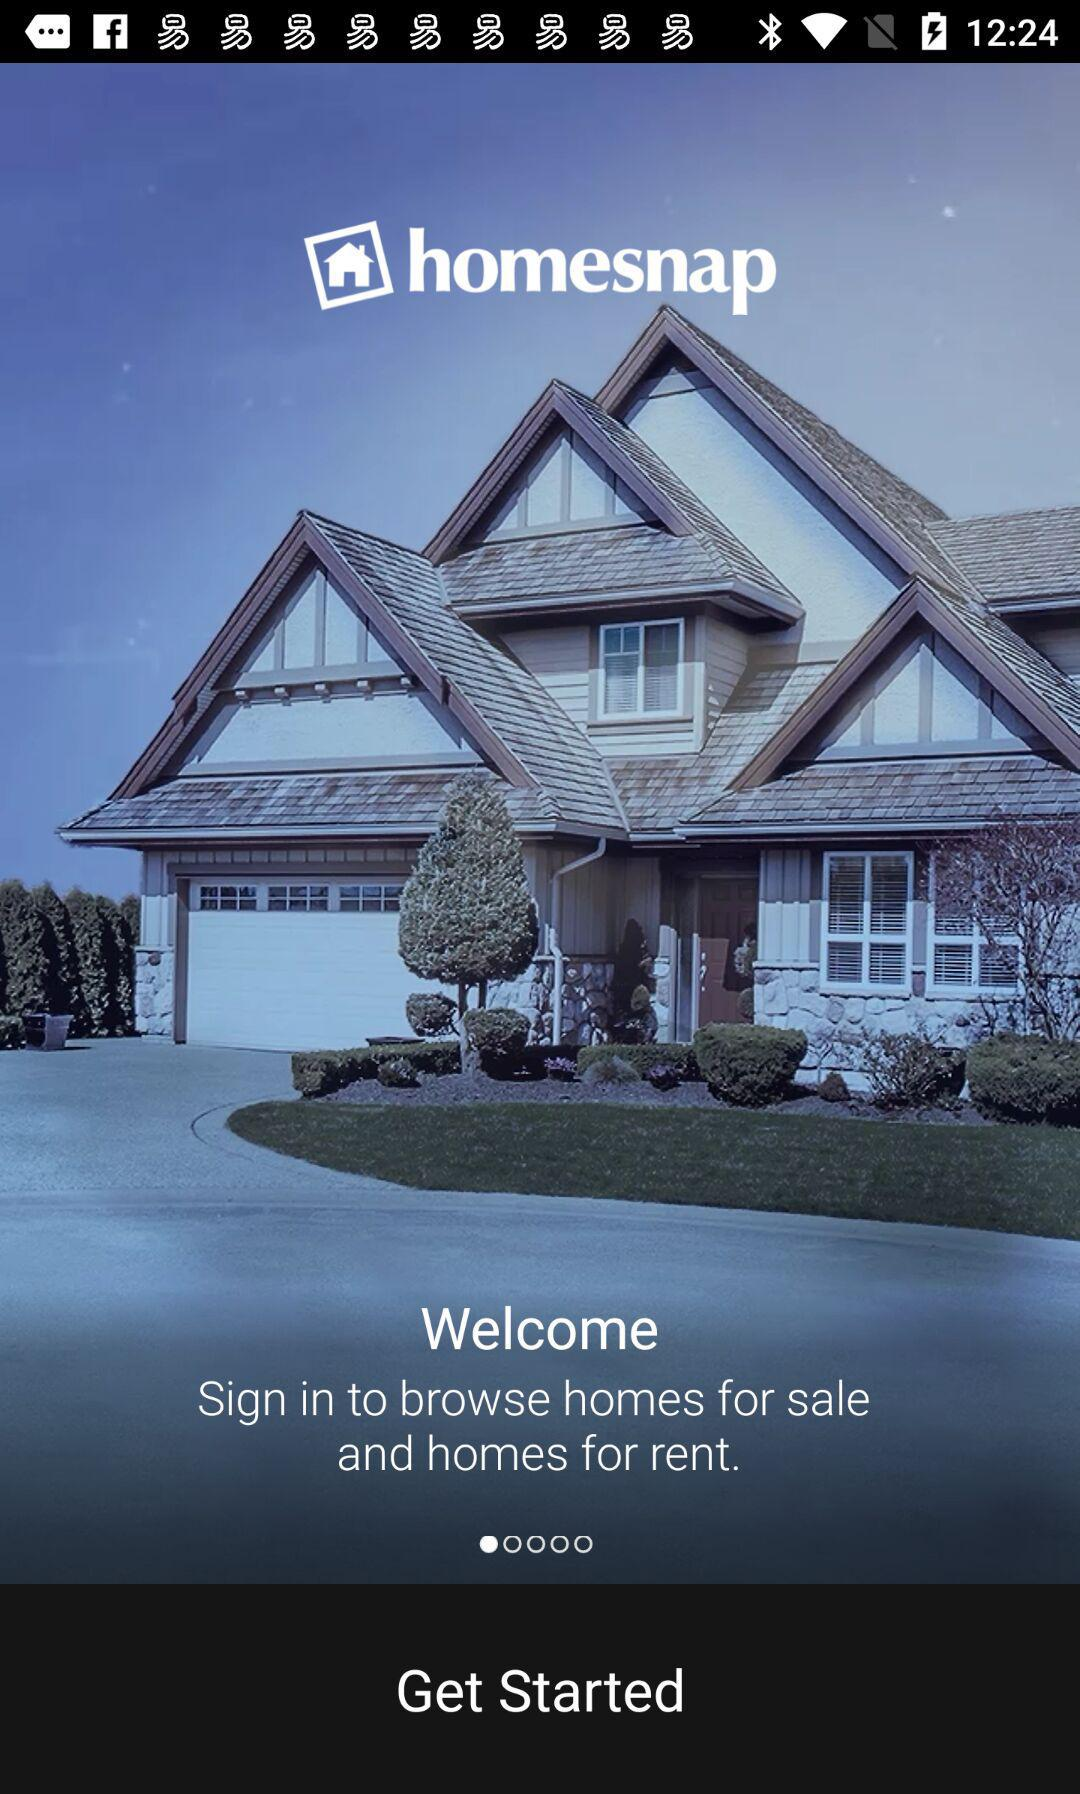BackgroundImage: (1, 64, 1080, 1584)
Image: (304, 220, 778, 317)
PageIndicator: (479, 1534, 594, 1554)
Text: (199, 1378, 871, 1472), (421, 1304, 659, 1352)
TextButton: (1, 1584, 1080, 1794)
UpperTaskBar: (1, 1, 1080, 64)
